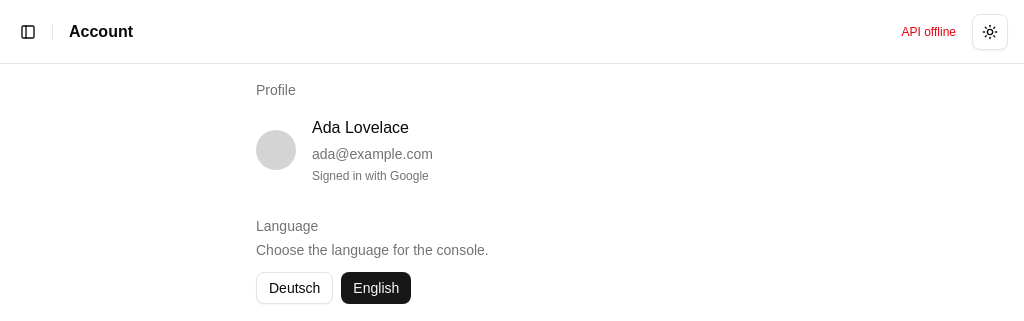
Test case: AccountPage › shows profile and switches language via PATCH /api/me
Expected: the text "Ada Lovelace" is shown, [312, 119, 409, 136]
Expected: the text "ada@example.com" is shown, [312, 144, 433, 164]
Click the button "Deutsch": {"x": 295, "y": 288} [256, 272, 333, 304]
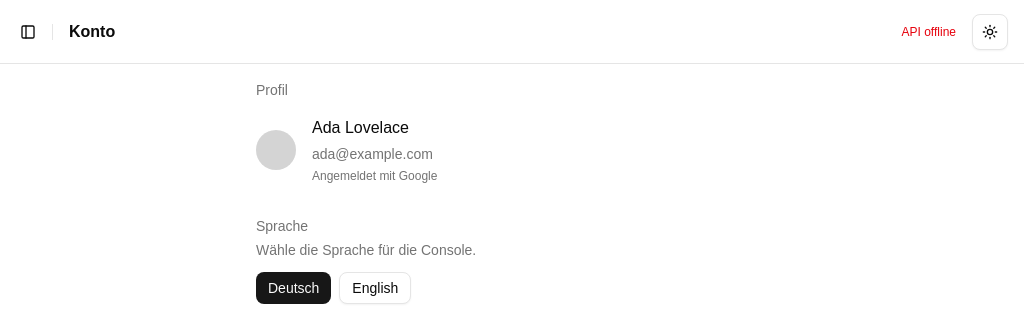
Expected: the heading "Konto" is shown, [69, 20, 115, 44]
